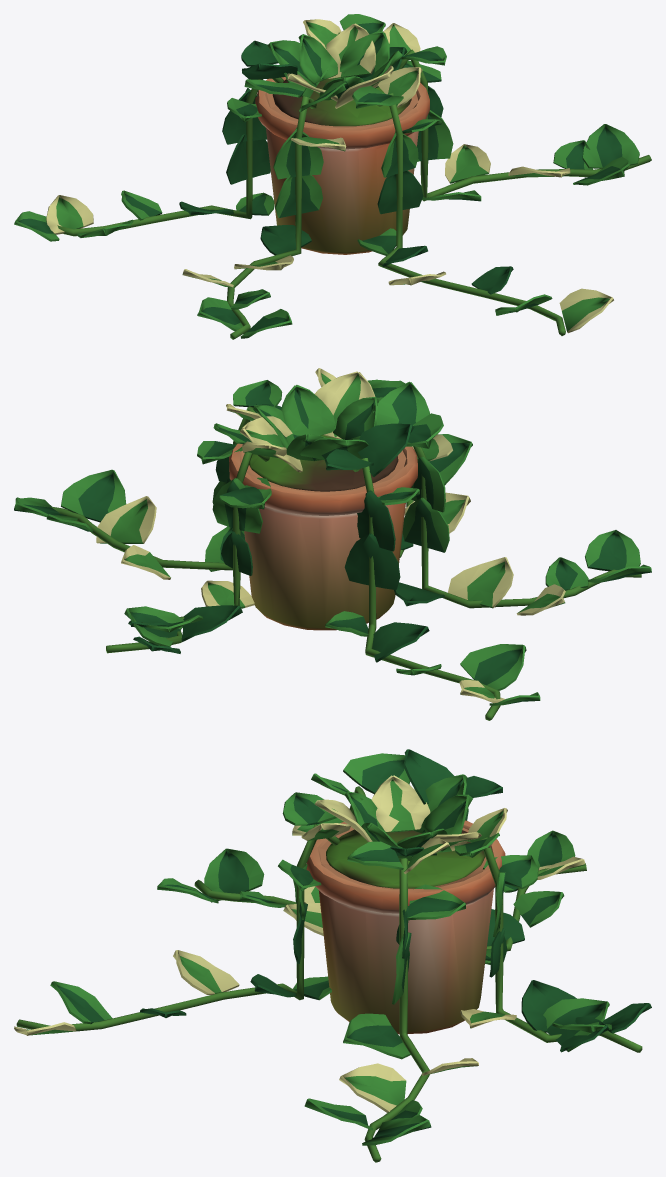
File: canopy_pothos_pot.glb
3 renders of one model, top to bottom at view 1: azimuth 30°, elevation 25°; view 2: azimuth 150°, elevation 25°; view 3: azimuth 270°, elevation 25°, orthographic. The views are drawn at different scales.
Parts seen in each view (by area): view 1: canopy_pothos_pot; view 2: canopy_pothos_pot; view 3: canopy_pothos_pot.
Boxes of the visible parts, left/top/right/bottom form: canopy_pothos_pot: left=14, top=14, right=651, bottom=339; canopy_pothos_pot: left=14, top=368, right=651, bottom=720; canopy_pothos_pot: left=14, top=749, right=651, bottom=1162.
Bounding box in the file's own units: 14.94 × 4.7 × 12.95.
